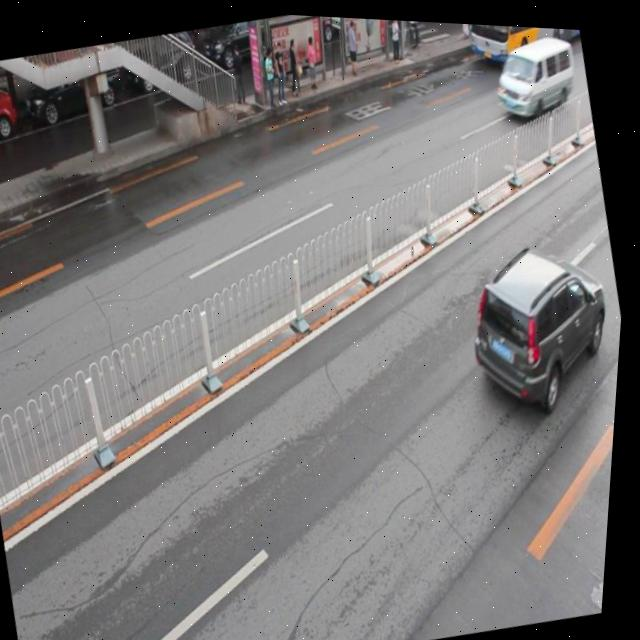car: (456, 224, 629, 407), (16, 49, 129, 134), (118, 25, 202, 96), (196, 12, 278, 75), (0, 77, 27, 160)
truck: (485, 22, 584, 121)
van: (460, 19, 582, 59)
